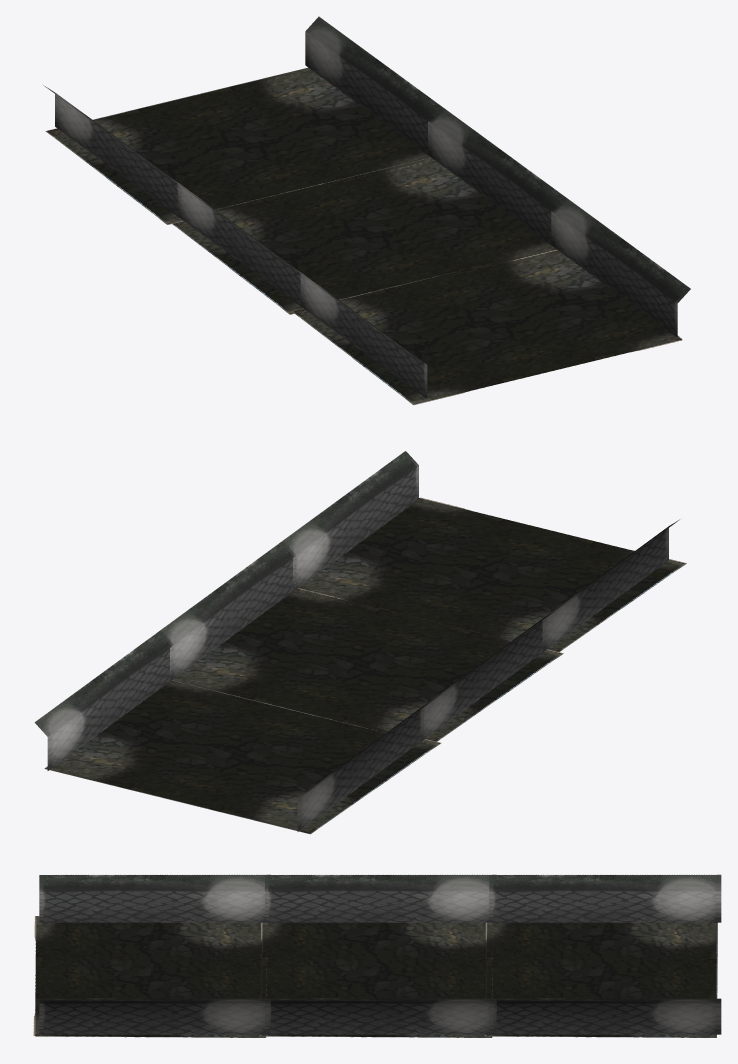
File: zimen.fbx
The picture shows the model from 3 angles, top to bottom: view 1: azimuth 30°, elevation 25°; view 2: azimuth 150°, elevation 25°; view 3: azimuth 270°, elevation 25°; orthographic projection. The views are drawn at different scales.
Visible parts, largest first — view 1: grid21, grid14, grid20, grid23, grid10, grid22; view 2: grid14, grid20, grid21, grid10, grid23, grid22; view 3: grid10, grid23, grid22, grid14, grid21, grid20.
Boxes of the visible parts, left/top/right/bottom form: grid21: left=292, top=250, right=682, bottom=405; grid14: left=45, top=67, right=434, bottom=224; grid20: left=169, top=157, right=557, bottom=314; grid23: left=292, top=199, right=690, bottom=398; grid10: left=43, top=16, right=444, bottom=218; grid22: left=169, top=109, right=567, bottom=308; grid14: left=44, top=680, right=441, bottom=834; grid20: left=172, top=588, right=563, bottom=743; grid21: left=295, top=497, right=686, bottom=652; grid10: left=34, top=630, right=434, bottom=831; grid23: left=283, top=451, right=679, bottom=652; grid22: left=161, top=541, right=557, bottom=742; grid10: left=489, top=874, right=721, bottom=1035; grid23: left=39, top=874, right=270, bottom=1035; grid22: left=265, top=874, right=496, bottom=1035; grid14: left=484, top=922, right=717, bottom=1037; grid21: left=33, top=916, right=266, bottom=1037; grid20: left=259, top=922, right=492, bottom=1037.
Bounding box in the file's own units: 13.02 × 2.03 × 26.95.
